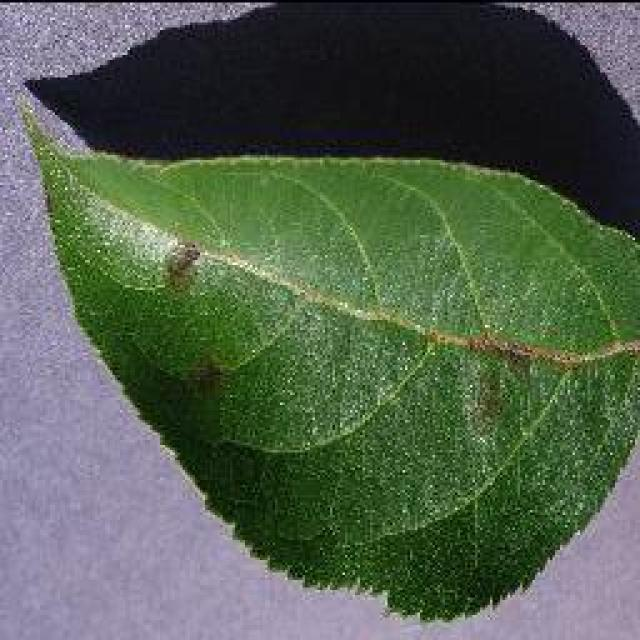apple scab disease: (12, 0, 637, 622)
